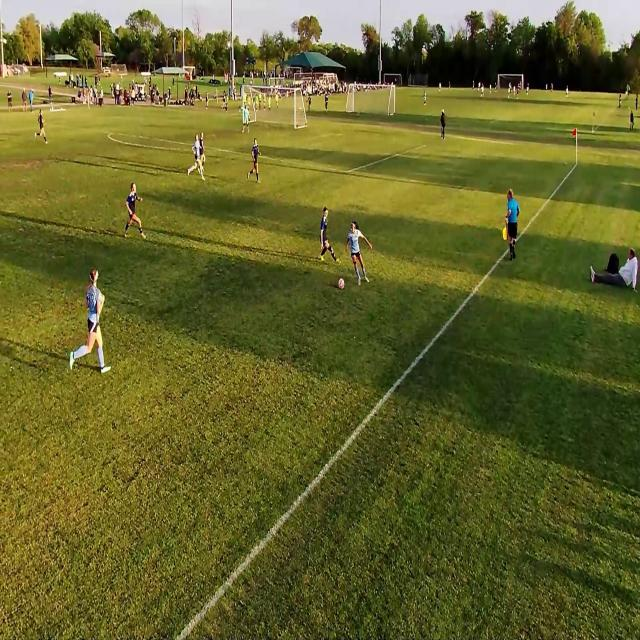ball: (337, 276, 346, 290)
team1: (123, 183, 145, 240), (317, 205, 333, 265), (249, 138, 260, 183), (200, 131, 210, 171), (38, 109, 47, 143)
team2: (76, 268, 109, 376), (348, 220, 371, 284), (189, 136, 202, 181)
